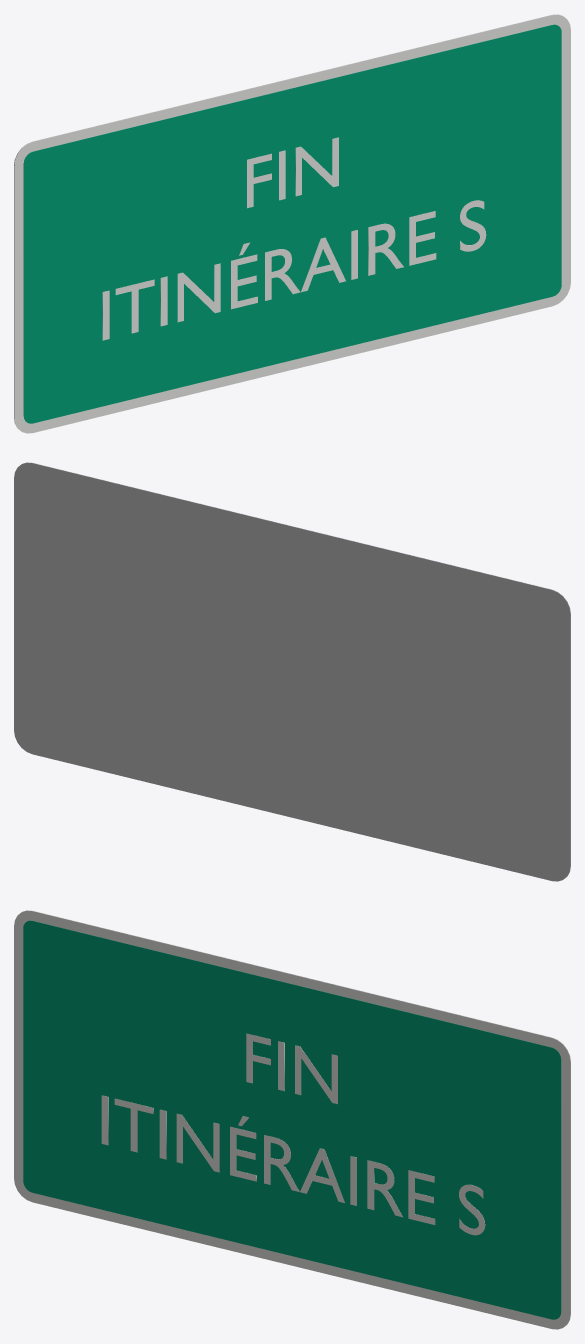
The picture shows the model from 3 angles, top to bottom: view 1: azimuth 30°, elevation 25°; view 2: azimuth 150°, elevation 25°; view 3: azimuth 330°, elevation 25°; orthographic projection.
Visible parts, largest first — view 1: D69a_fond01, D69a_cadre00, D69a_txt03, D69a_txt02, D69a_dos; view 2: D69a_dos; view 3: D69a_fond01, D69a_cadre00, D69a_txt03, D69a_txt02, D69a_dos.
Boxes of the visible parts, x1,y1,x2,y2 form: D69a_fond01: [23, 24, 561, 423]; D69a_cadre00: [14, 14, 570, 433]; D69a_txt03: [102, 200, 486, 340]; D69a_txt02: [247, 137, 338, 208]; D69a_dos: [14, 14, 562, 426]; D69a_dos: [14, 462, 570, 881]; D69a_fond01: [23, 920, 561, 1319]; D69a_cadre00: [14, 910, 570, 1329]; D69a_txt03: [101, 1095, 485, 1235]; D69a_txt02: [246, 1033, 337, 1104]; D69a_dos: [22, 910, 570, 1322].
Bounding box in the file's own units: 1.2 × 0.6 × 0.0029.
